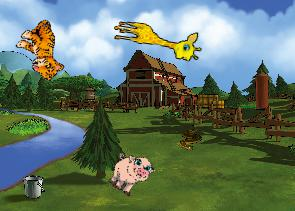giraffe: (110, 19, 203, 63)
pig: (103, 146, 157, 201)
tiger: (9, 14, 78, 84)
